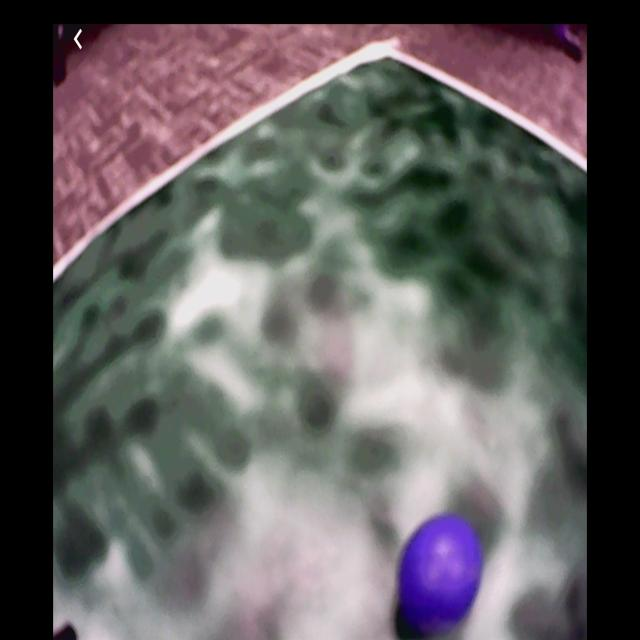ball: (397, 510, 479, 631)
